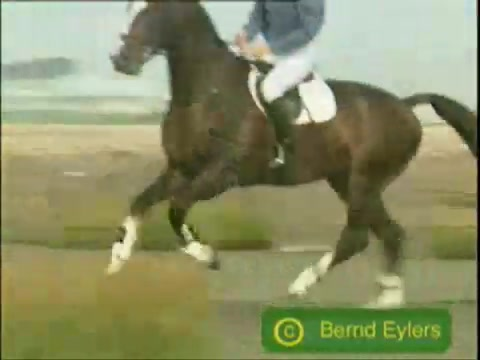horse: (108, 1, 480, 305)
